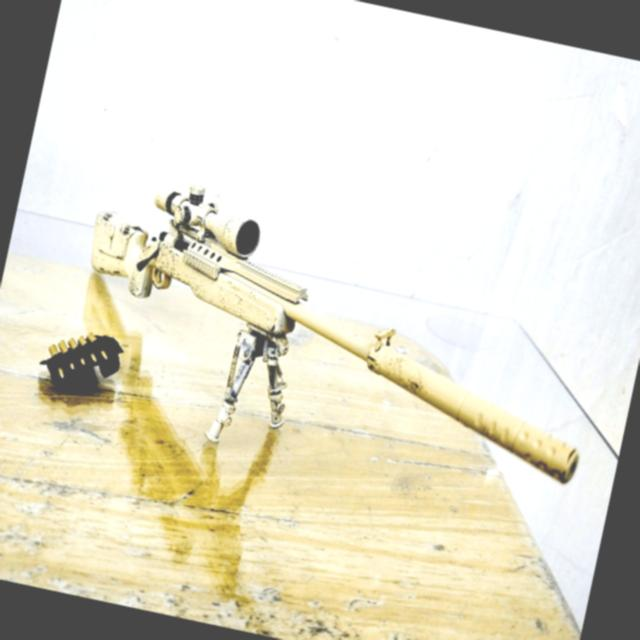rifle: (31, 152, 628, 542)
